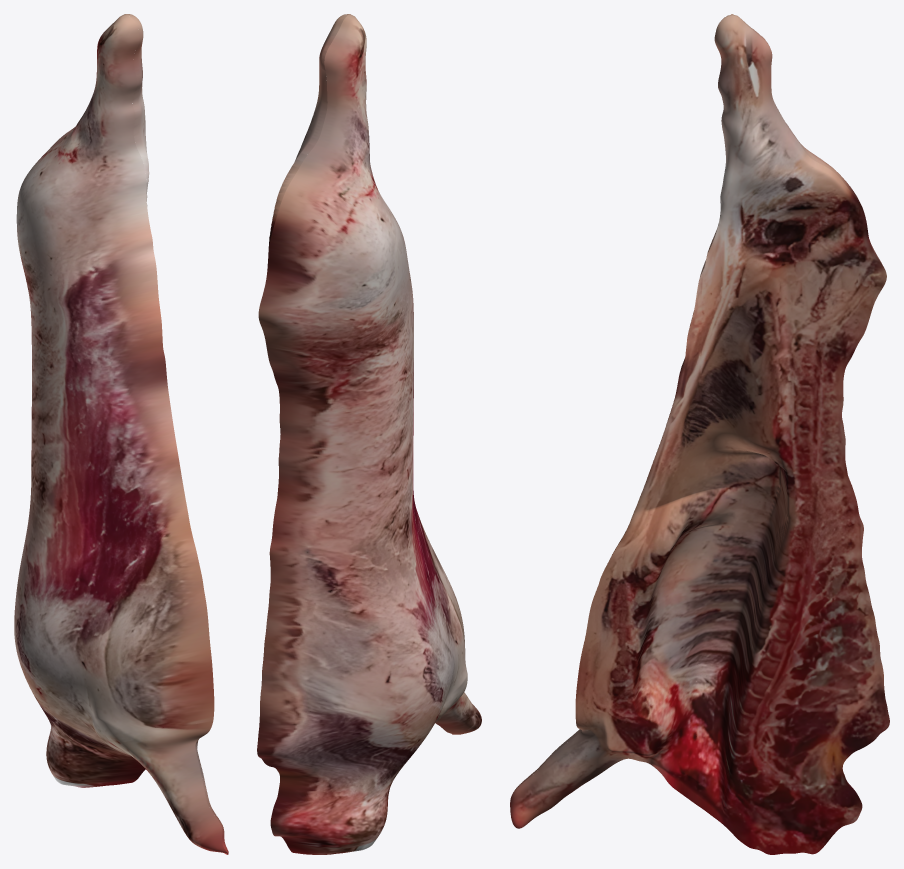
File: demi_carcasse_boeuf_v27.glb
3 views of the same model, side by side, from view 1: azimuth 30°, elevation 25°; view 2: azimuth 150°, elevation 25°; view 3: azimuth 270°, elevation 25° (orthographic). The views are drawn at different scales.
Visible parts, largest first — view 1: face_exterieure, face_de_fente; view 2: face_exterieure, face_de_fente; view 3: face_de_fente, face_exterieure.
Part boxes in pixels (x1,y1,x2,y2): face_exterieure: (14,14,228,854); face_de_fente: (126,14,228,853); face_exterieure: (257,14,481,854); face_de_fente: (268,14,452,734); face_de_fente: (510,15,889,854); face_exterieure: (513,14,882,792).
Bounding box in the file's own units: 0.4164 × 2.5 × 1.03.
Materials: 2 (2 with a texture image).
